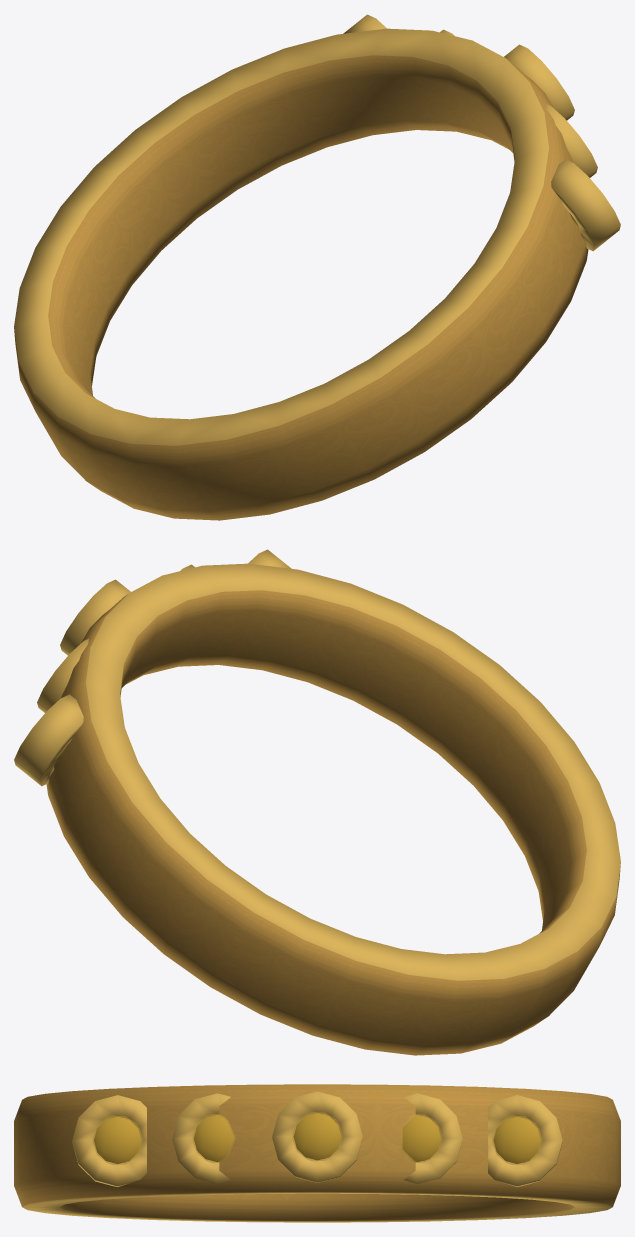
Rendered from item_item332.glb.
The picture shows the model from 3 angles, top to bottom: view 1: azimuth 30°, elevation 25°; view 2: azimuth 150°, elevation 25°; view 3: azimuth 270°, elevation 25°; orthographic projection.
Visible parts, largest first — view 1: jewellery_item332; view 2: jewellery_item332; view 3: jewellery_item332, jewellery_item332_glass.
Part boxes in pixels (x1,y1,x2,y2): jewellery_item332: [14, 14, 620, 520]; jewellery_item332: [14, 549, 620, 1055]; jewellery_item332: [14, 1084, 620, 1222]; jewellery_item332_glass: [93, 1112, 542, 1164].
Bounding box in the file's own units: 0.7687 × 0.4904 × 0.79.
Materials: 4 (1 with a texture image).
